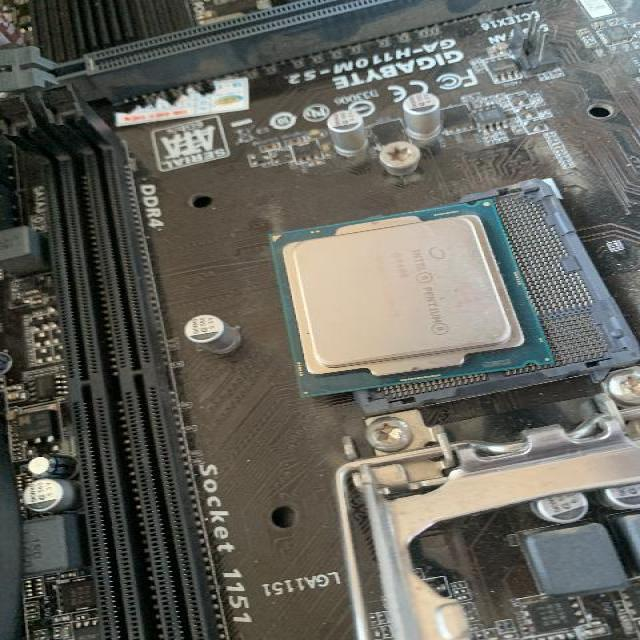CPU: (263, 200, 554, 398)
Mainboard: (0, 0, 640, 638)
